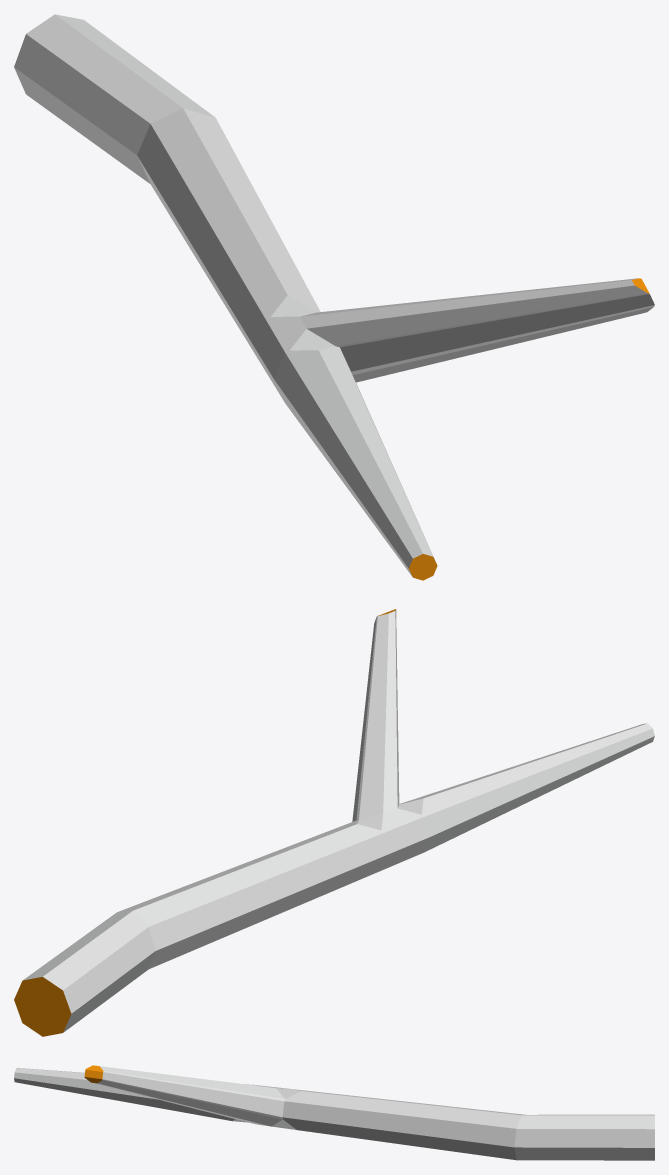
File: Stick_15.fbx
3 renders of one model, top to bottom at view 1: azimuth 30°, elevation 25°; view 2: azimuth 150°, elevation 25°; view 3: azimuth 270°, elevation 25°, orthographic. The views are drawn at different scales.
Parts seen in each view (by area): view 1: Circle.209; view 2: Circle.209; view 3: Circle.209.
Part boxes in pixels (bbox=[...]): Circle.209: bbox=[14, 14, 654, 580]; Circle.209: bbox=[14, 609, 654, 1036]; Circle.209: bbox=[14, 1065, 654, 1160].
Size of the model in its own units: 13.28 by 8 by 44.51.
